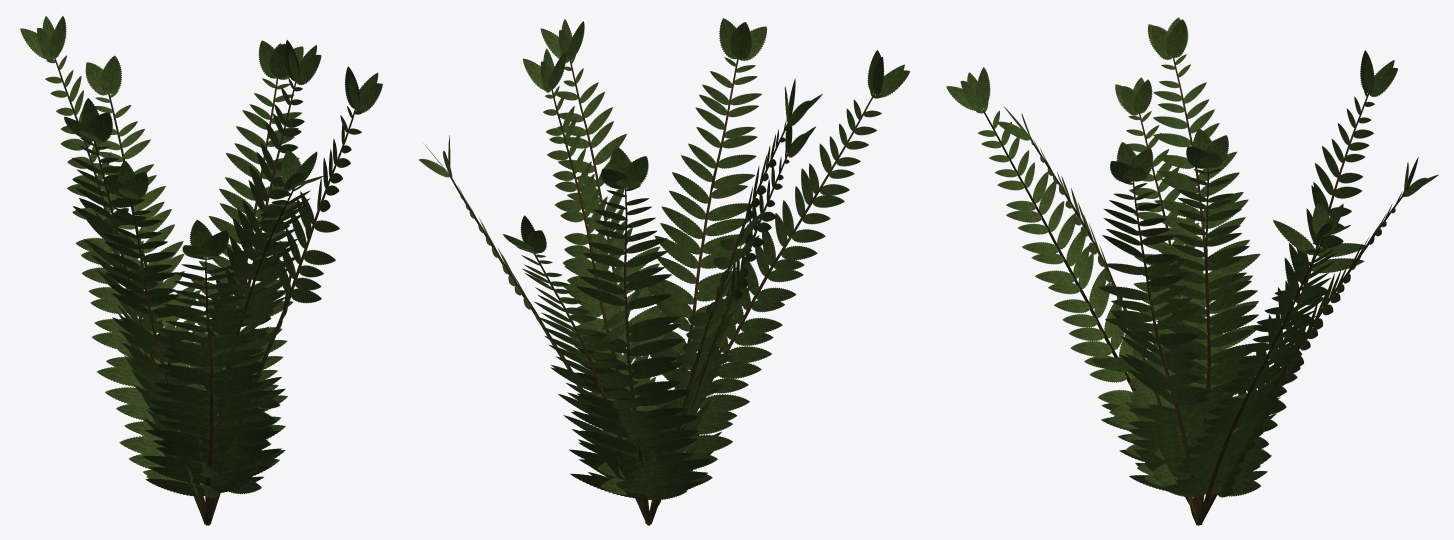
File: royal_fern_v01.glb
The picture shows the model from 3 angles, left to right: view 1: azimuth 30°, elevation 25°; view 2: azimuth 150°, elevation 25°; view 3: azimuth 270°, elevation 25°; orthographic projection. The views are drawn at different scales.
Visible parts, largest first — view 1: royal_fern_v01; view 2: royal_fern_v01; view 3: royal_fern_v01.
Boxes of the visible parts, left/top/right/bottom form: royal_fern_v01: left=20, top=16, right=382, bottom=525; royal_fern_v01: left=418, top=18, right=909, bottom=525; royal_fern_v01: left=946, top=17, right=1438, bottom=525.
Size of the model in its own units: 0.8432 by 1.17 by 1.18.
2 materials, 2 textured.
